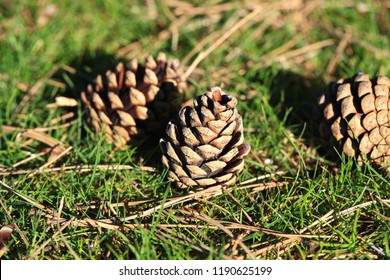Pc: (154, 87, 249, 193), (77, 55, 183, 147), (319, 73, 390, 173)
